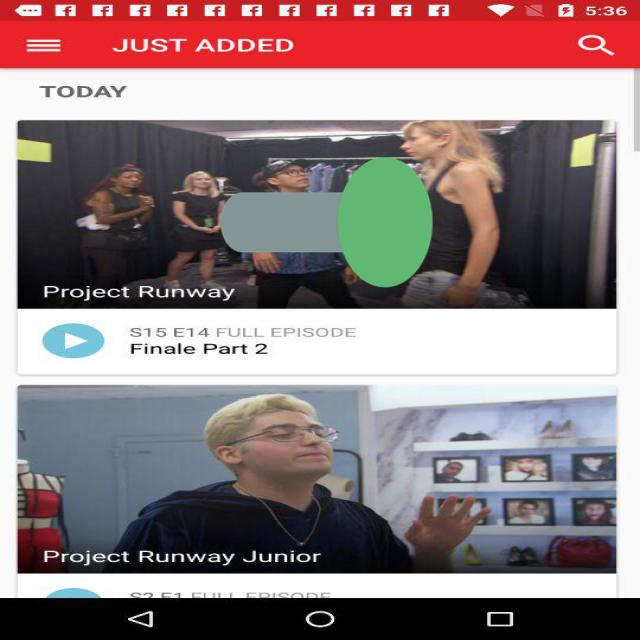social proof: (220, 78, 432, 368)
